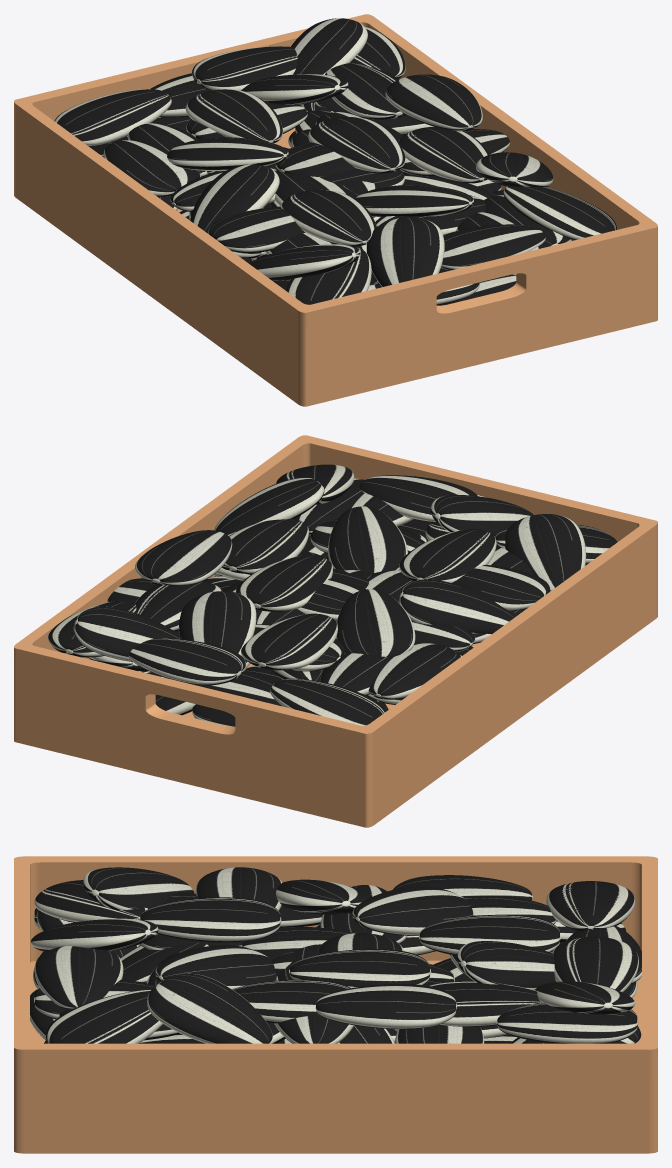
The model's file is feedingBox_Max.fbx.
3 renders of one model, top to bottom at view 1: azimuth 30°, elevation 25°; view 2: azimuth 150°, elevation 25°; view 3: azimuth 270°, elevation 25°, orthographic. The views are drawn at different scales.
Visible parts, largest first — view 1: Box_Material_0; view 2: Box_Material_0; view 3: Box_Material_0.
Boxes of the visible parts, x1,y1,x2,y2 form: Box_Material_0: (14,14,657,406); Box_Material_0: (14,435,657,827); Box_Material_0: (14,856,657,1153).
Bounding box in the file's own units: 154 × 48.64 × 217.
Materials: 79 (78 with a texture image).
